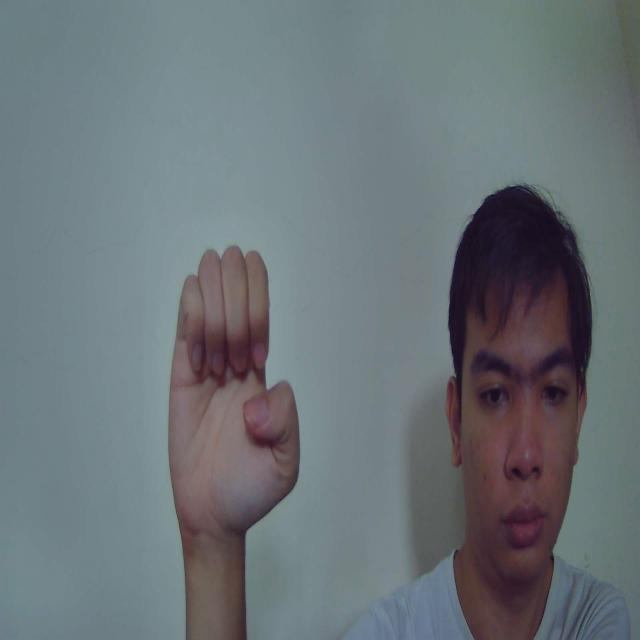E: (167, 243, 302, 530)
